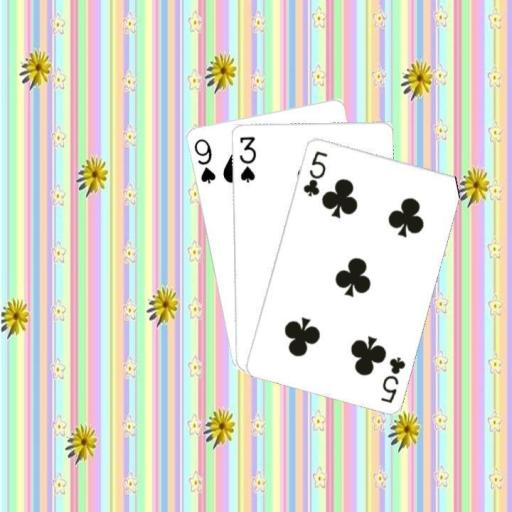card-corner: (300, 147, 328, 198), (378, 353, 406, 404), (190, 135, 217, 185), (235, 133, 257, 183)
